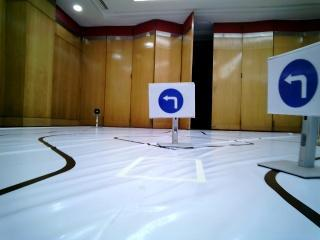left: (276, 65, 320, 110), (157, 86, 194, 118)
